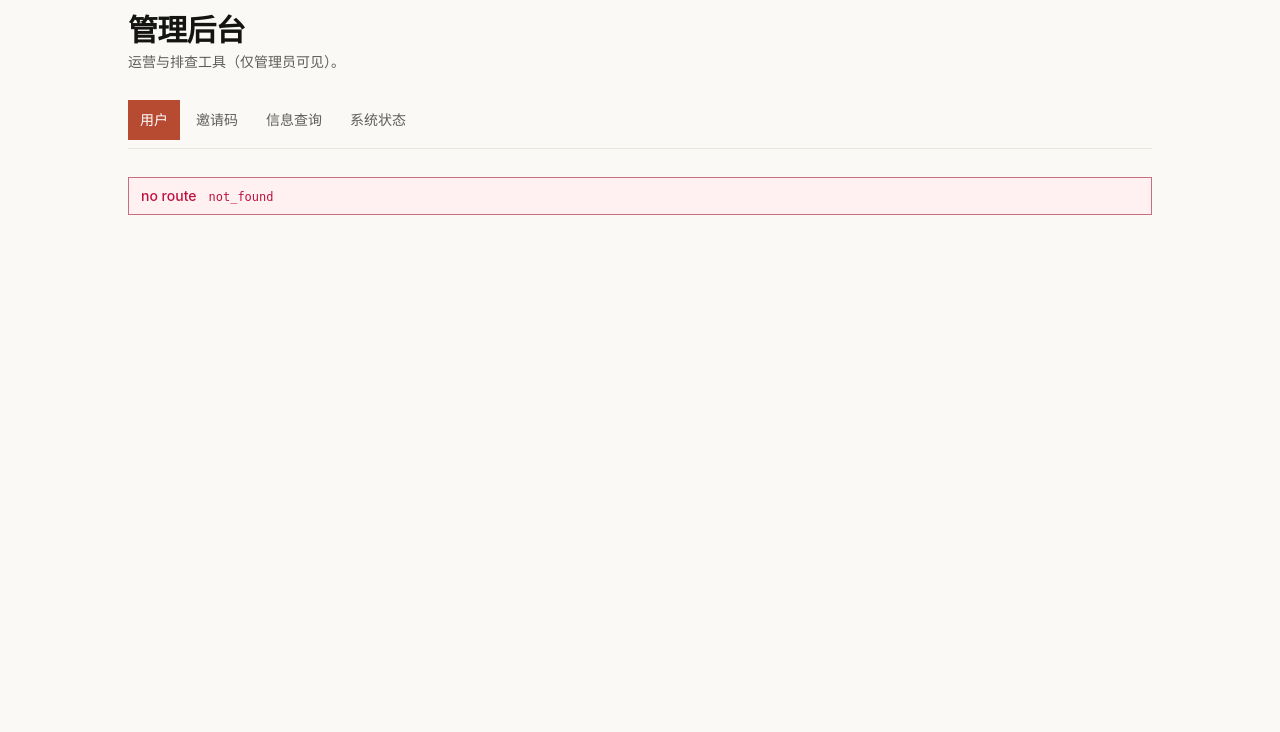
管理员后台（TASK-110 §1.6 改版） › 系统状态显示 VPS 内存
The width and height of the screenshot is (1280, 732).
Click the button "系统状态". click: (378,120)
box: [338,100,418,140]
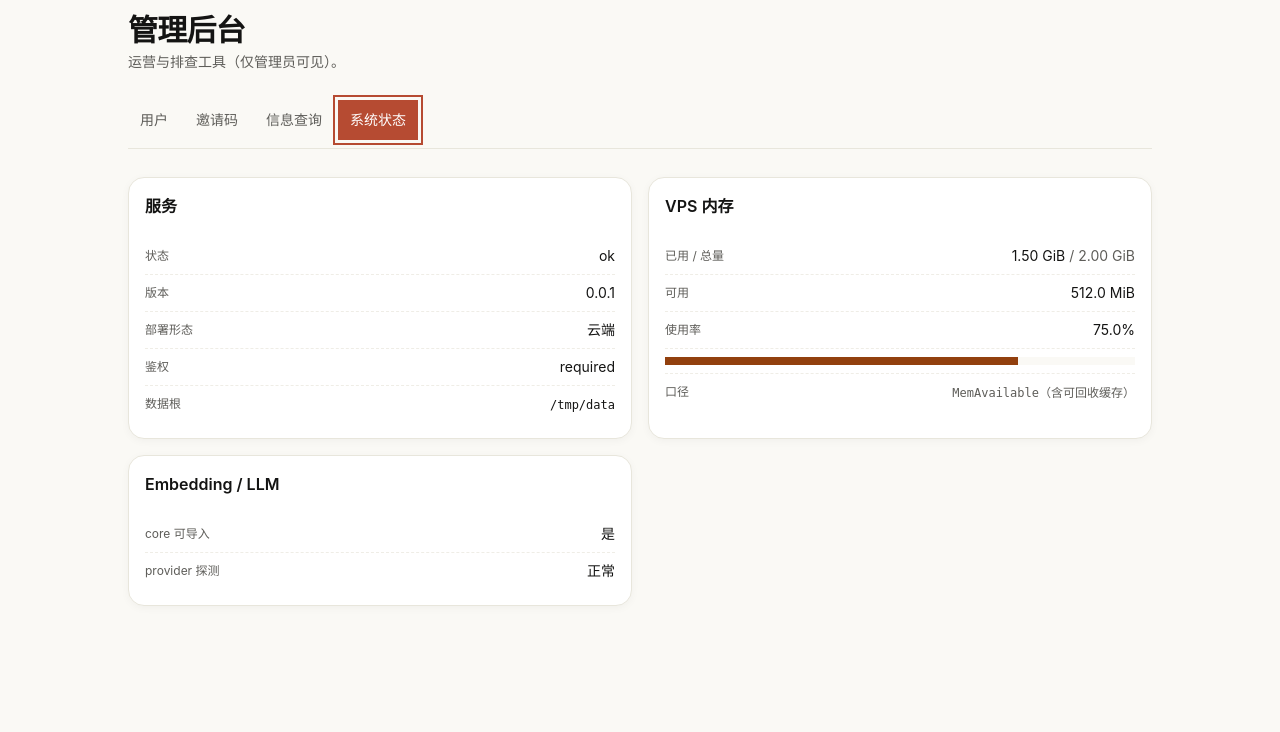
Result: the heading "VPS 内存" is shown at [665,196,733,216]
Result: the text "1.50 GiB" is shown at [1012,247,1065,264]
Result: the text "75.0%" is shown at [1093,320,1135,340]
